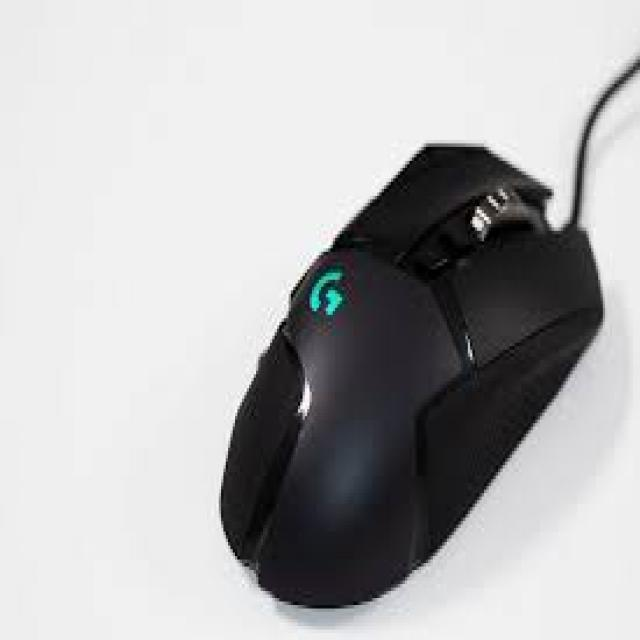others: (177, 49, 640, 608)
